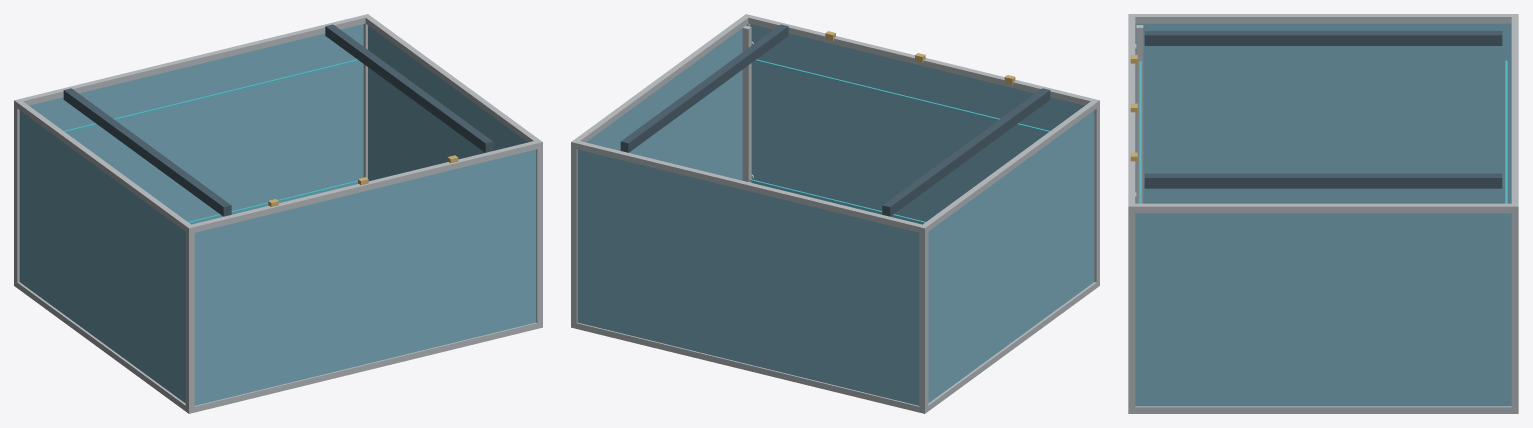
The model's file is 01_L73_TransparentCMPSafetyEnclosure.glb.
3 views of the same model, side by side, from view 1: azimuth 30°, elevation 25°; view 2: azimuth 150°, elevation 25°; view 3: azimuth 270°, elevation 25° (orthographic). The views are drawn at different scales.
Visible parts, largest first — view 1: TransparentCMPSafetyEnclosure_Node_0013, TransparentCMPSafetyEnclosure_Node_0012, TransparentCMPSafetyEnclosure_Node_0014, TransparentCMPSafetyEnclosure_Node_0015, TransparentCMPSafetyEnclosure_Node_0009, TransparentCMPSafetyEnclosure_Node_0008, TransparentCMPSafetyEnclosure_Node_0023, TransparentCMPSafetyEnclosure_Node_0022, TransparentCMPSafetyEnclosure_Node_0005, TransparentCMPSafetyEnclosure_Node_0010, TransparentCMPSafetyEnclosure_Node_0011, TransparentCMPSafetyEnclosure_Node_0001 (+5 smaller); view 2: TransparentCMPSafetyEnclosure_Node_0012, TransparentCMPSafetyEnclosure_Node_0013, TransparentCMPSafetyEnclosure_Node_0014, TransparentCMPSafetyEnclosure_Node_0015, TransparentCMPSafetyEnclosure_Node_0008, TransparentCMPSafetyEnclosure_Node_0009, TransparentCMPSafetyEnclosure_Node_0023, TransparentCMPSafetyEnclosure_Node_0022, TransparentCMPSafetyEnclosure_Node_0004, TransparentCMPSafetyEnclosure_Node_0010, TransparentCMPSafetyEnclosure_Node_0011, TransparentCMPSafetyEnclosure_Node_0000 (+5 smaller); view 3: TransparentCMPSafetyEnclosure_Node_0015, TransparentCMPSafetyEnclosure_Node_0014, TransparentCMPSafetyEnclosure_Node_0023, TransparentCMPSafetyEnclosure_Node_0022, TransparentCMPSafetyEnclosure_Node_0011, TransparentCMPSafetyEnclosure_Node_0010, TransparentCMPSafetyEnclosure_Node_0007, TransparentCMPSafetyEnclosure_Node_0002, TransparentCMPSafetyEnclosure_Node_0003, TransparentCMPSafetyEnclosure_Node_0008, TransparentCMPSafetyEnclosure_Node_0009, TransparentCMPSafetyEnclosure_Node_0020 (+2 smaller).
Boxes of the visible parts, left/top/right/bottom form: TransparentCMPSafetyEnclosure_Node_0013: left=194, top=149, right=536, bottom=405; TransparentCMPSafetyEnclosure_Node_0012: left=29, top=24, right=363, bottom=224; TransparentCMPSafetyEnclosure_Node_0014: left=19, top=110, right=185, bottom=403; TransparentCMPSafetyEnclosure_Node_0015: left=368, top=25, right=527, bottom=181; TransparentCMPSafetyEnclosure_Node_0009: left=185, top=139, right=542, bottom=233; TransparentCMPSafetyEnclosure_Node_0008: left=14, top=14, right=369, bottom=105; TransparentCMPSafetyEnclosure_Node_0023: left=325, top=24, right=493, bottom=152; TransparentCMPSafetyEnclosure_Node_0022: left=63, top=88, right=231, bottom=216; TransparentCMPSafetyEnclosure_Node_0005: left=186, top=322, right=542, bottom=413; TransparentCMPSafetyEnclosure_Node_0010: left=14, top=101, right=194, bottom=233; TransparentCMPSafetyEnclosure_Node_0011: left=363, top=15, right=541, bottom=142; TransparentCMPSafetyEnclosure_Node_0001: left=185, top=224, right=194, bottom=413; TransparentCMPSafetyEnclosure_Node_0012: left=577, top=149, right=919, bottom=405; TransparentCMPSafetyEnclosure_Node_0013: left=750, top=24, right=1084, bottom=224; TransparentCMPSafetyEnclosure_Node_0014: left=928, top=110, right=1094, bottom=403; TransparentCMPSafetyEnclosure_Node_0015: left=586, top=26, right=744, bottom=180; TransparentCMPSafetyEnclosure_Node_0008: left=571, top=140, right=928, bottom=233; TransparentCMPSafetyEnclosure_Node_0009: left=744, top=14, right=1099, bottom=105; TransparentCMPSafetyEnclosure_Node_0023: left=620, top=24, right=788, bottom=152; TransparentCMPSafetyEnclosure_Node_0022: left=882, top=88, right=1050, bottom=216; TransparentCMPSafetyEnclosure_Node_0004: left=571, top=322, right=927, bottom=413; TransparentCMPSafetyEnclosure_Node_0010: left=919, top=100, right=1099, bottom=232; TransparentCMPSafetyEnclosure_Node_0011: left=571, top=14, right=749, bottom=147; TransparentCMPSafetyEnclosure_Node_0000: left=919, top=225, right=928, bottom=413; TransparentCMPSafetyEnclosure_Node_0015: left=1135, top=213, right=1511, bottom=406; TransparentCMPSafetyEnclosure_Node_0014: left=1135, top=23, right=1511, bottom=203; TransparentCMPSafetyEnclosure_Node_0023: left=1144, top=173, right=1502, bottom=188; TransparentCMPSafetyEnclosure_Node_0022: left=1144, top=31, right=1502, bottom=45; TransparentCMPSafetyEnclosure_Node_0011: left=1128, top=203, right=1517, bottom=213; TransparentCMPSafetyEnclosure_Node_0010: left=1132, top=14, right=1512, bottom=23; TransparentCMPSafetyEnclosure_Node_0007: left=1128, top=406, right=1518, bottom=413; TransparentCMPSafetyEnclosure_Node_0002: left=1511, top=204, right=1518, bottom=413; TransparentCMPSafetyEnclosure_Node_0003: left=1128, top=204, right=1135, bottom=413; TransparentCMPSafetyEnclosure_Node_0008: left=1511, top=14, right=1518, bottom=212; TransparentCMPSafetyEnclosure_Node_0009: left=1128, top=14, right=1135, bottom=212; TransparentCMPSafetyEnclosure_Node_0020: left=1136, top=25, right=1143, bottom=203.
Bounding box in the file's own units: 7.3 × 3.77 × 6.25.
